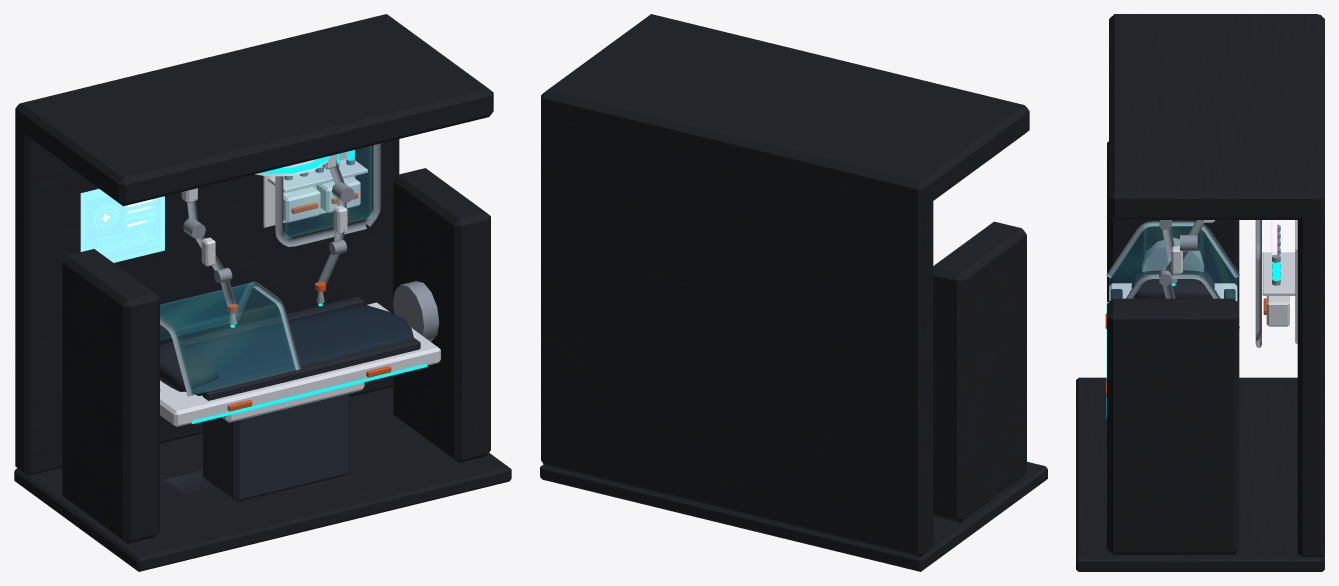
Rendered from med_autodoc_r1_05.glb.
The picture shows the model from 3 angles, left to right: view 1: azimuth 30°, elevation 25°; view 2: azimuth 150°, elevation 25°; view 3: azimuth 270°, elevation 25°; orthographic projection. The views are drawn at different scales.
Visible parts, largest first — view 1: Autodoc05_GimbalTrunnionGunmetalFrame, Autodoc05_TranslucentCanopyAndPharmacy, Autodoc05_CarbonSlatePedestal, Autodoc05_WhiteBedAndCowlings, Autodoc05_OrbitalNavyPad, Autodoc05_MachinedGimbalHubsAndArms, Autodoc05_CharcoalBolsters, Autodoc05_OLEDVitalsConsole, Autodoc05_CyanScannerAndVialsLED, Autodoc05_SignalOrangeGimbalLocks; view 2: Autodoc05_GimbalTrunnionGunmetalFrame; view 3: Autodoc05_GimbalTrunnionGunmetalFrame, Autodoc05_MachinedGimbalHubsAndArms, Autodoc05_TranslucentCanopyAndPharmacy, Autodoc05_WhiteBedAndCowlings, Autodoc05_CharcoalBolsters.
Boxes of the visible parts, left/top/right/bottom form: Autodoc05_GimbalTrunnionGunmetalFrame: left=14, top=14, right=511, bottom=571; Autodoc05_TranslucentCanopyAndPharmacy: left=160, top=146, right=371, bottom=394; Autodoc05_CarbonSlatePedestal: left=165, top=393, right=350, bottom=501; Autodoc05_WhiteBedAndCowlings: left=160, top=150, right=440, bottom=426; Autodoc05_OrbitalNavyPad: left=185, top=305, right=414, bottom=395; Autodoc05_MachinedGimbalHubsAndArms: left=160, top=143, right=439, bottom=396; Autodoc05_CharcoalBolsters: left=160, top=297, right=420, bottom=400; Autodoc05_OLEDVitalsConsole: left=80, top=189, right=164, bottom=262; Autodoc05_CyanScannerAndVialsLED: left=191, top=150, right=427, bottom=423; Autodoc05_SignalOrangeGimbalLocks: left=227, top=192, right=391, bottom=411; Autodoc05_GimbalTrunnionGunmetalFrame: left=540, top=14, right=1047, bottom=571; Autodoc05_GimbalTrunnionGunmetalFrame: left=1076, top=14, right=1324, bottom=571; Autodoc05_MachinedGimbalHubsAndArms: left=1106, top=220, right=1280, bottom=348; Autodoc05_TranslucentCanopyAndPharmacy: left=1109, top=224, right=1236, bottom=300; Autodoc05_WhiteBedAndCowlings: left=1109, top=220, right=1297, bottom=343; Autodoc05_CharcoalBolsters: left=1111, top=270, right=1235, bottom=299.
Bounding box in the file's own units: 2.22 × 2.15 × 1.28.
12 materials, 12 textured.
